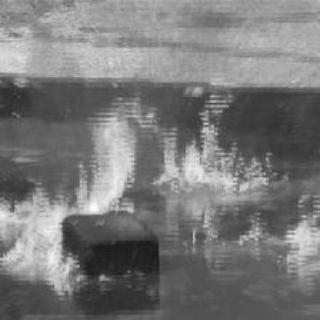Fire: (2, 84, 319, 290)
